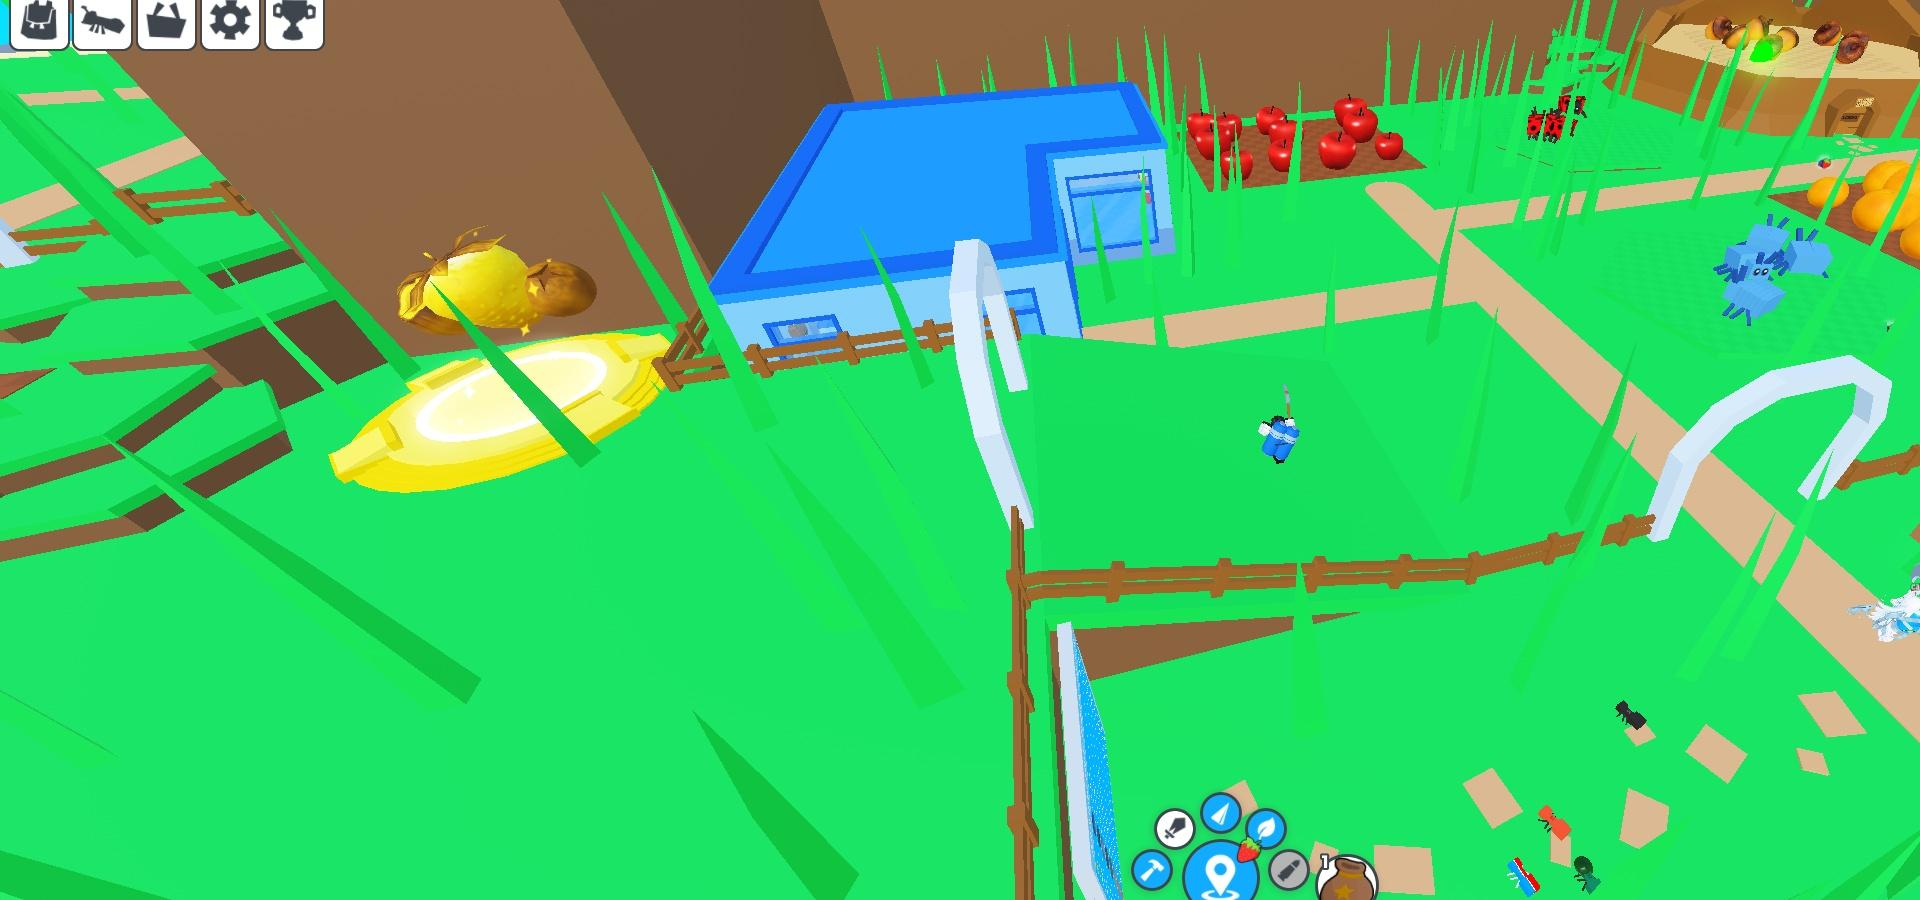Enemy: (1722, 274, 1782, 324), (1712, 245, 1772, 279), (1789, 228, 1832, 271), (1521, 111, 1573, 143), (1751, 219, 1788, 246), (1556, 87, 1594, 110)
